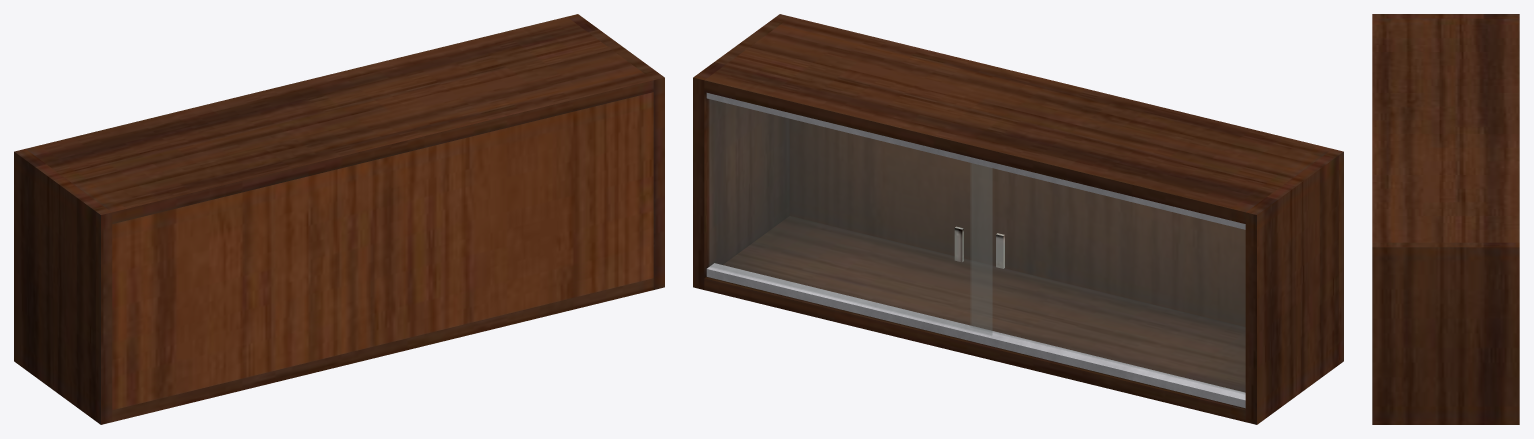
The model's file is shelf_glass_dark_lod1_web.glb.
3 views of the same model, side by side, from view 1: azimuth 30°, elevation 25°; view 2: azimuth 150°, elevation 25°; view 3: azimuth 270°, elevation 25° (orthographic). The views are drawn at different scales.
Parts seen in each view (by area): view 1: ShelfGlassDark_Body; view 2: ShelfGlassDark_Body, Glass_Slide_1_L, Glass_Slide_1_R, Chrome_ShelfGlassDark; view 3: ShelfGlassDark_Body.
Boxes of the visible parts, left/top/right/bottom form: ShelfGlassDark_Body: left=14, top=14, right=664, bottom=424; ShelfGlassDark_Body: left=693, top=14, right=1343, bottom=424; Glass_Slide_1_L: left=709, top=99, right=992, bottom=335; Glass_Slide_1_R: left=971, top=163, right=1245, bottom=393; Chrome_ShelfGlassDark: left=706, top=93, right=1245, bottom=408; ShelfGlassDark_Body: left=1372, top=14, right=1519, bottom=424.
Bounding box in the file's own units: 0.9 × 0.32 × 0.24.
Materials: 3 (2 with a texture image).
